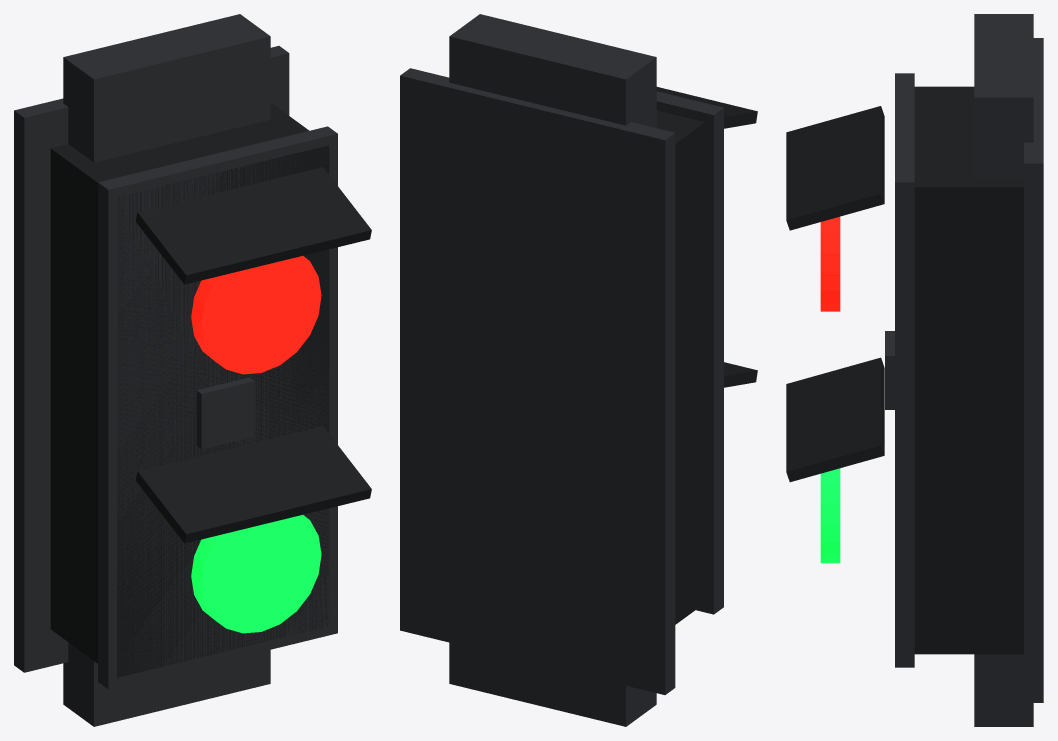
Rendered from signal_wall.glb.
The picture shows the model from 3 angles, left to right: view 1: azimuth 30°, elevation 25°; view 2: azimuth 150°, elevation 25°; view 3: azimuth 270°, elevation 25°; orthographic projection. The views are drawn at different scales.
Visible parts, largest first — view 1: signal_housing, lamp_green, lamp_red; view 2: signal_housing; view 3: signal_housing, lamp_green, lamp_red.
Boxes of the visible parts, bbox=[...] form: signal_housing: bbox=[14, 14, 371, 726]; lamp_green: bbox=[191, 515, 321, 633]; lamp_red: bbox=[191, 256, 321, 374]; signal_housing: bbox=[400, 14, 757, 726]; signal_housing: bbox=[786, 14, 1043, 726]; lamp_green: bbox=[820, 468, 840, 563]; lamp_red: bbox=[820, 216, 840, 311].
Bounding box in the file's own units: 0.3 × 0.7 × 0.2595.
